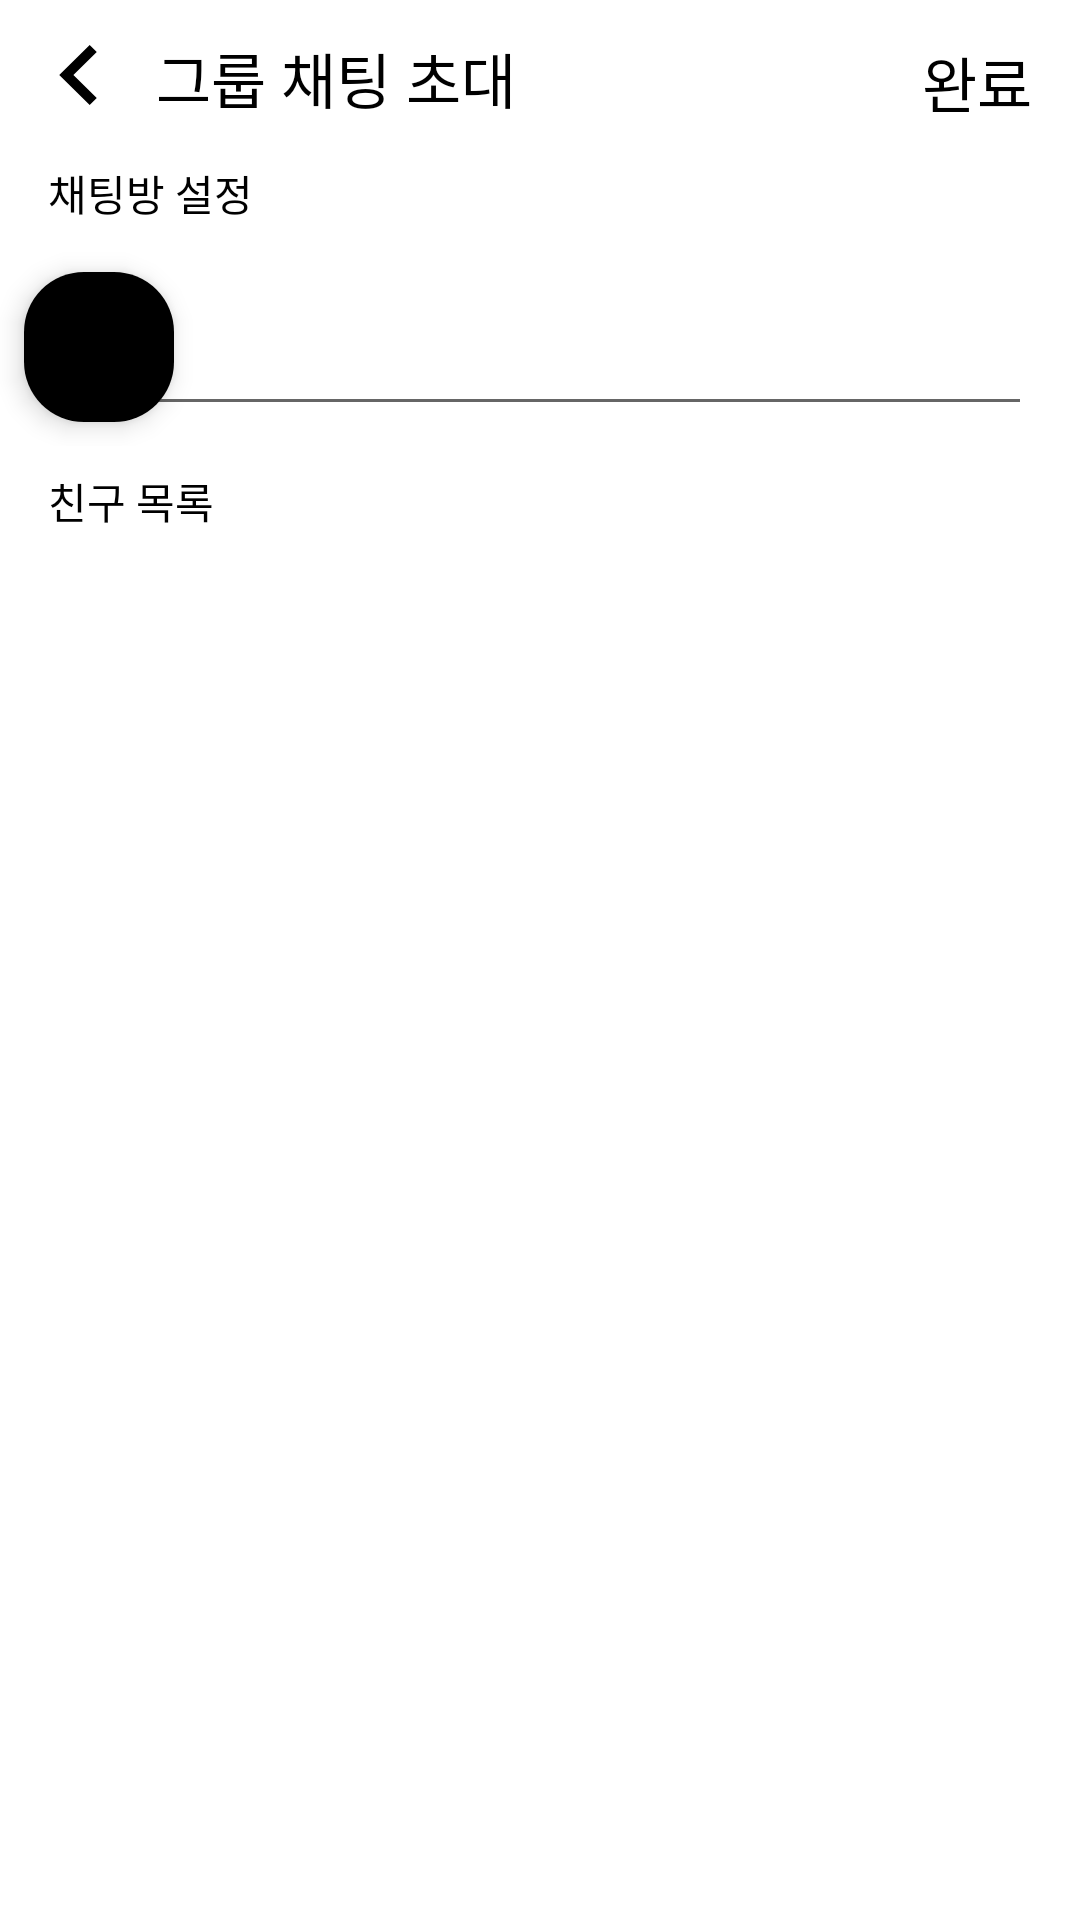

Screen size 1080 x 1920. Icon name, then its box in pixels as (x1, y1, x2, y2):
back arrow: (59, 45, 97, 105)
